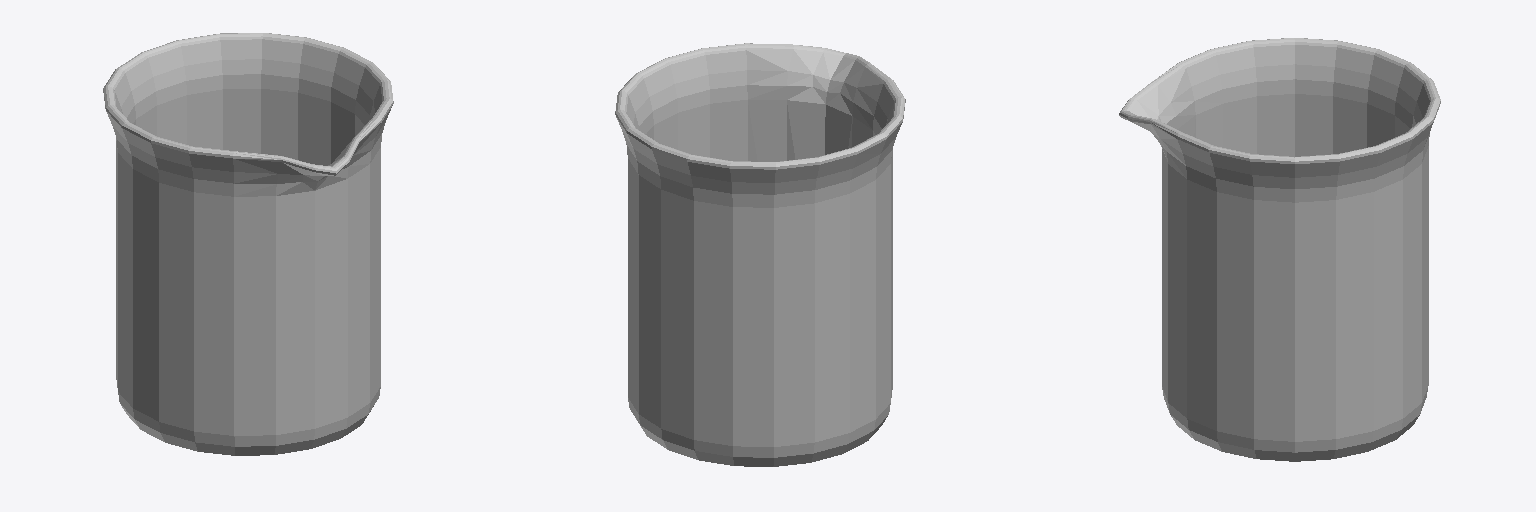
The model's file is 500_beaker_2.obj.
3 renders of one model, left to right at view 1: azimuth 30°, elevation 25°; view 2: azimuth 150°, elevation 25°; view 3: azimuth 270°, elevation 25°, orthographic.
Parts seen in each view (by area): view 1: Bequer_500mL_Glass_MAT_0; view 2: Bequer_500mL_Glass_MAT_0; view 3: Bequer_500mL_Glass_MAT_0.
Boxes of the visible parts, x1=… form: Bequer_500mL_Glass_MAT_0: x1=103, y1=33, x2=393, y2=455; Bequer_500mL_Glass_MAT_0: x1=615, y1=43, x2=905, y2=466; Bequer_500mL_Glass_MAT_0: x1=1119, y1=38, x2=1440, y2=461.
Bounding box in the file's own units: 0.0623 × 0.0746 × 0.0688.